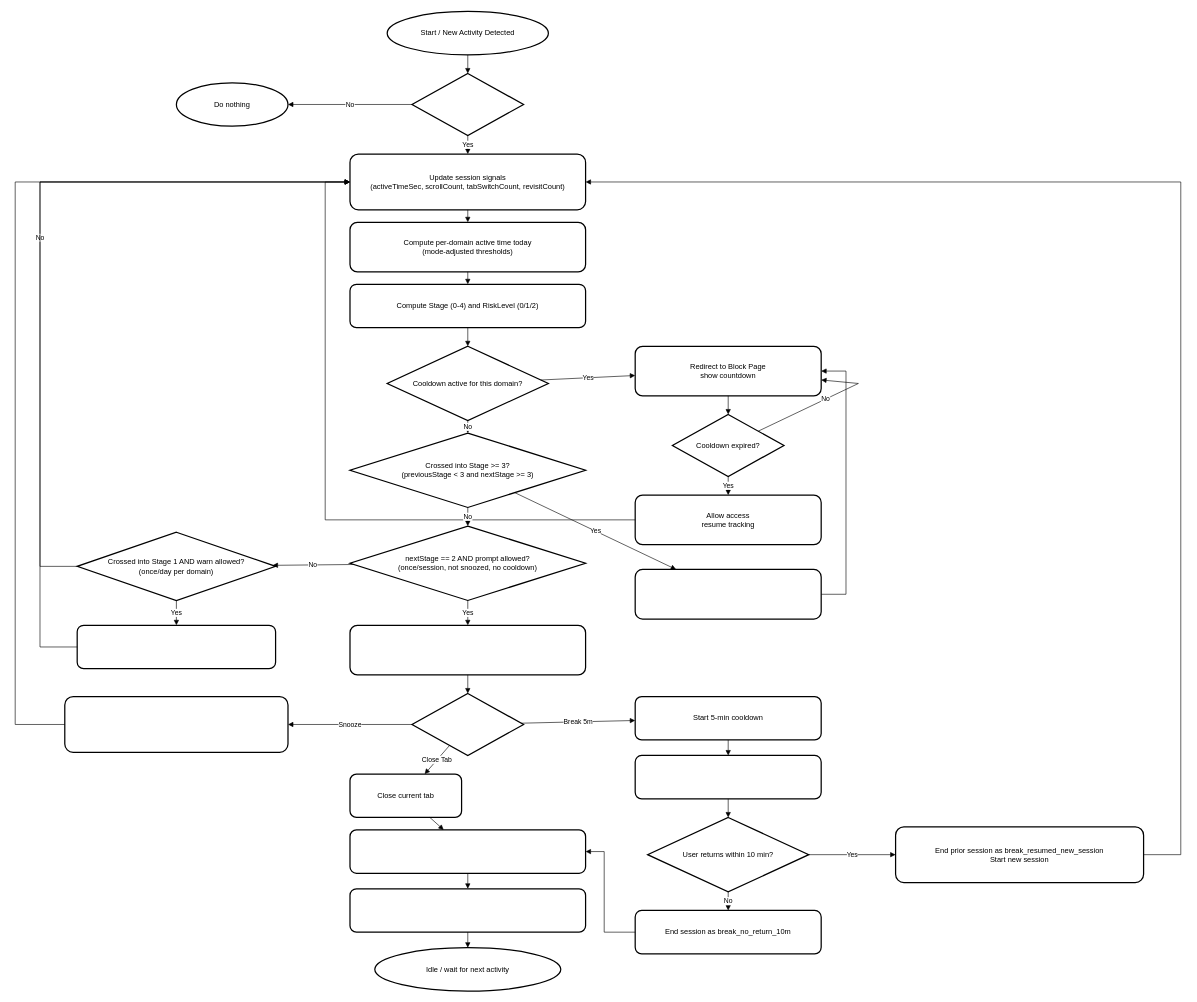
This 1197x1002 diagram has some shape labels left out. Each missing label, with the centre of its shape:
"End session + log summary" belongs at [467,851].
"Is domain trackable?" belongs at [467,104].
"Show non-intrusive warning" belongs at [176,646].
"Show Stage 2 Prompt: Break 5m / Snooze / Close Tab" belongs at [467,649].
"Start cooldown block (set cooldown + redirect)" belongs at [728,594].
"Suppress Stage 2 prompt for snooze window (with snooze cap)" belongs at [176,724].
"User choice" belongs at [467,724].
"Wait return window (10 min)" belongs at [728,777].
"Write session record to chrome.storage.local" belongs at [467,910].
